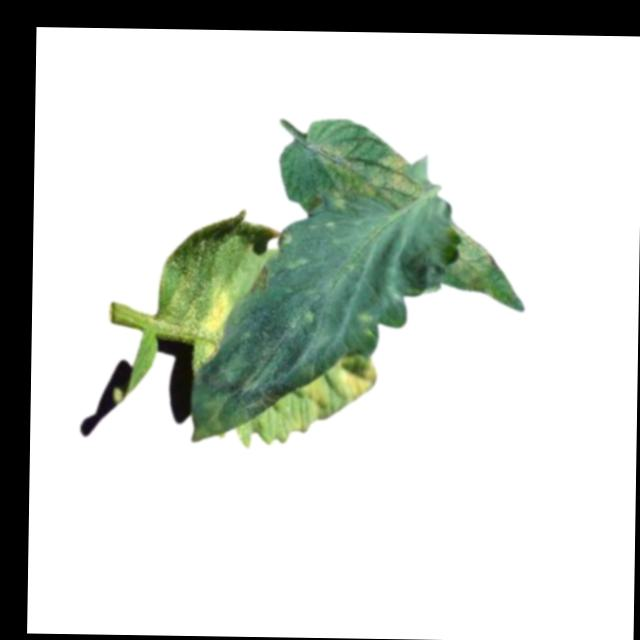Leaf_Mold: (322, 147, 419, 206), (447, 224, 495, 292), (332, 353, 378, 408), (197, 279, 234, 341)
